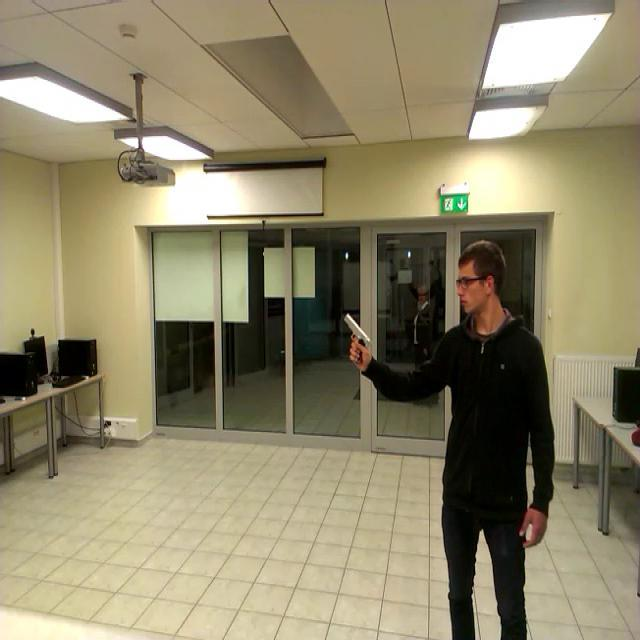Gun: (343, 312, 370, 362)
